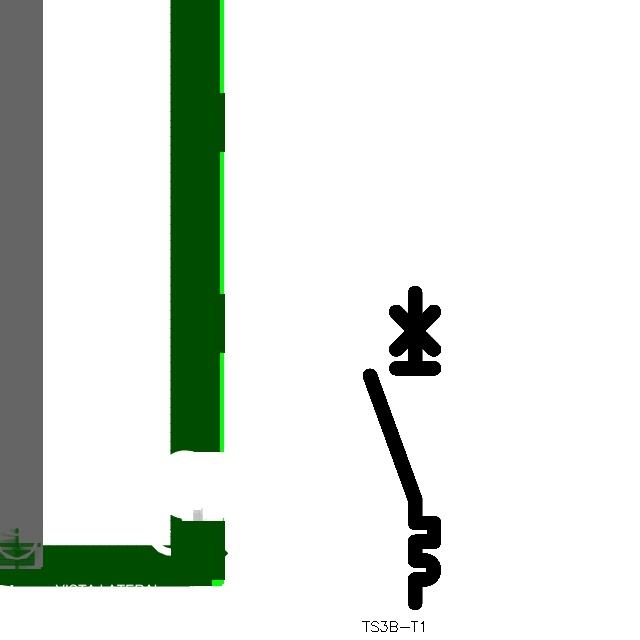interruptor_termomagnetico: (362, 285, 442, 611)
